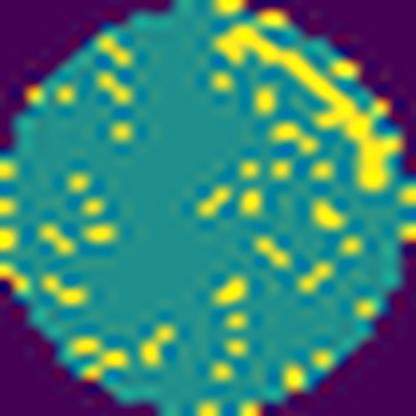Scratch: (210, 22, 402, 197)
